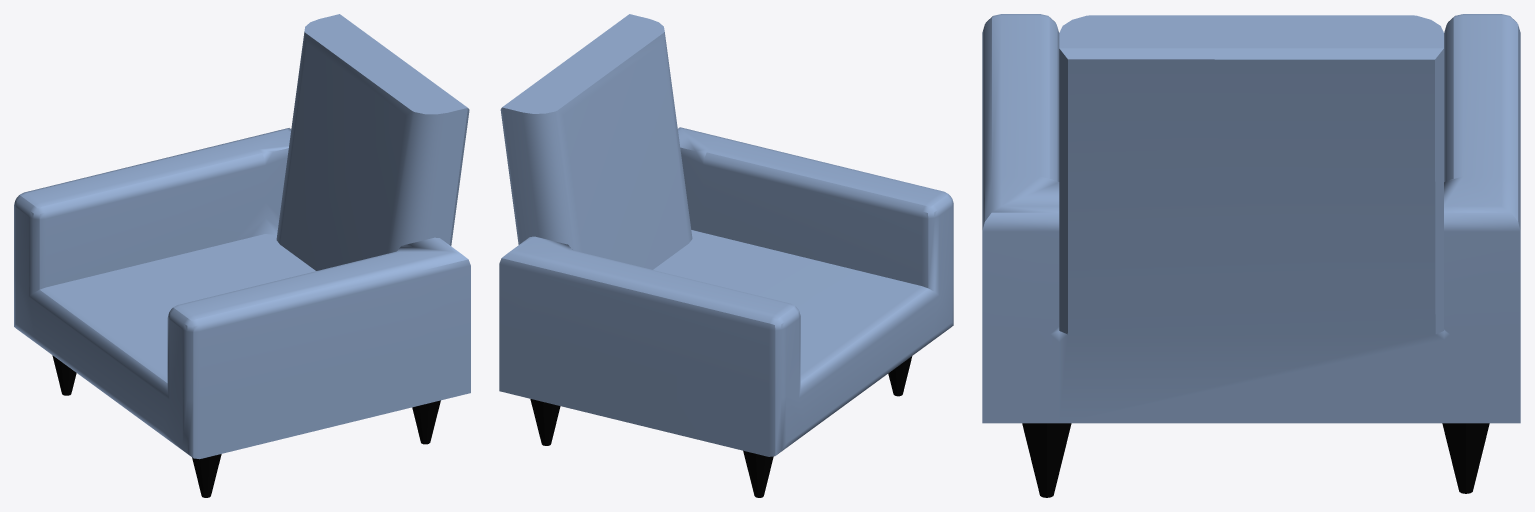
File: Sofa.fbx
3 renders of one model, left to right at view 1: azimuth 30°, elevation 25°; view 2: azimuth 150°, elevation 25°; view 3: azimuth 270°, elevation 25°, orthographic. The views are drawn at different scales.
Parts seen in each view (by area): view 1: Sofa1; view 2: Sofa1; view 3: Sofa1.
Boxes of the visible parts, x1,y1,x2,y2 form: Sofa1: [14, 14, 470, 497]; Sofa1: [499, 14, 953, 497]; Sofa1: [982, 14, 1520, 497].
Size of the model in its own units: 1.18 by 1.16 by 1.18.
